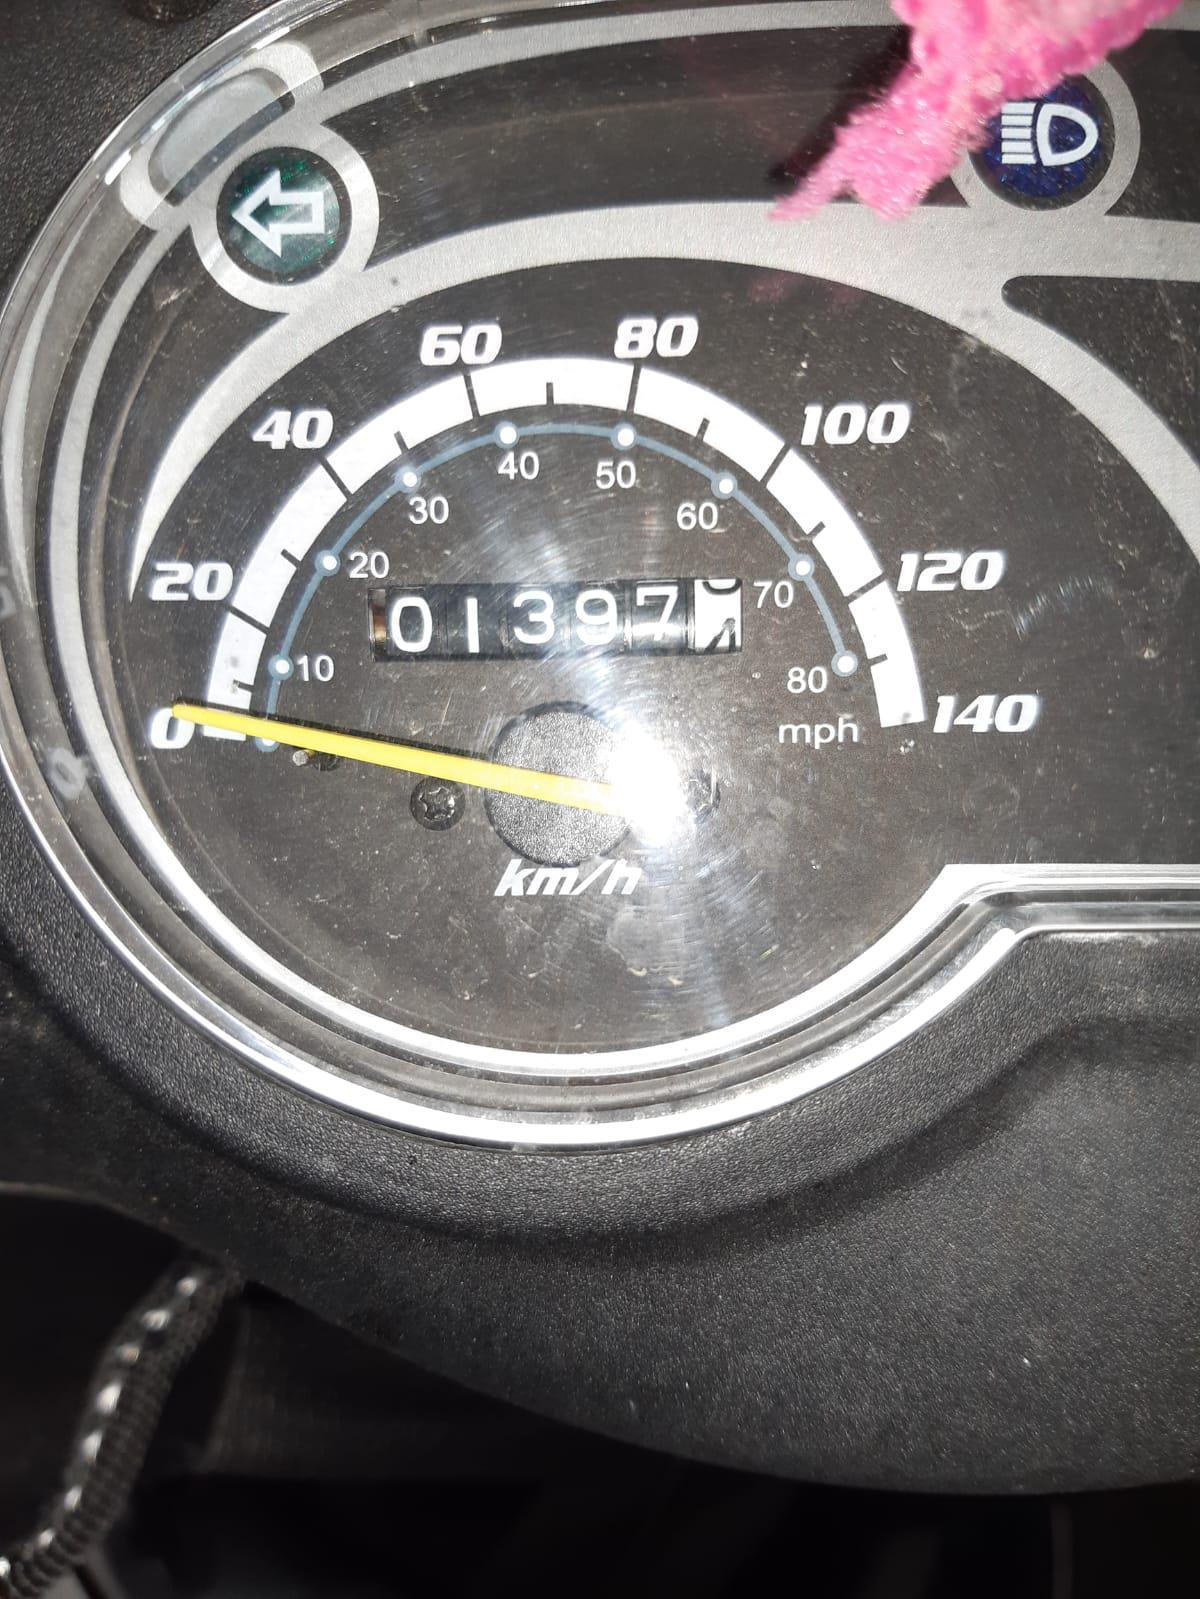0: (384, 592, 432, 654)
1: (455, 590, 489, 659)
3: (511, 588, 558, 649)
4: (700, 615, 747, 662)
7: (634, 582, 679, 644)
9: (568, 586, 621, 651)
odometer: (363, 573, 754, 667)
